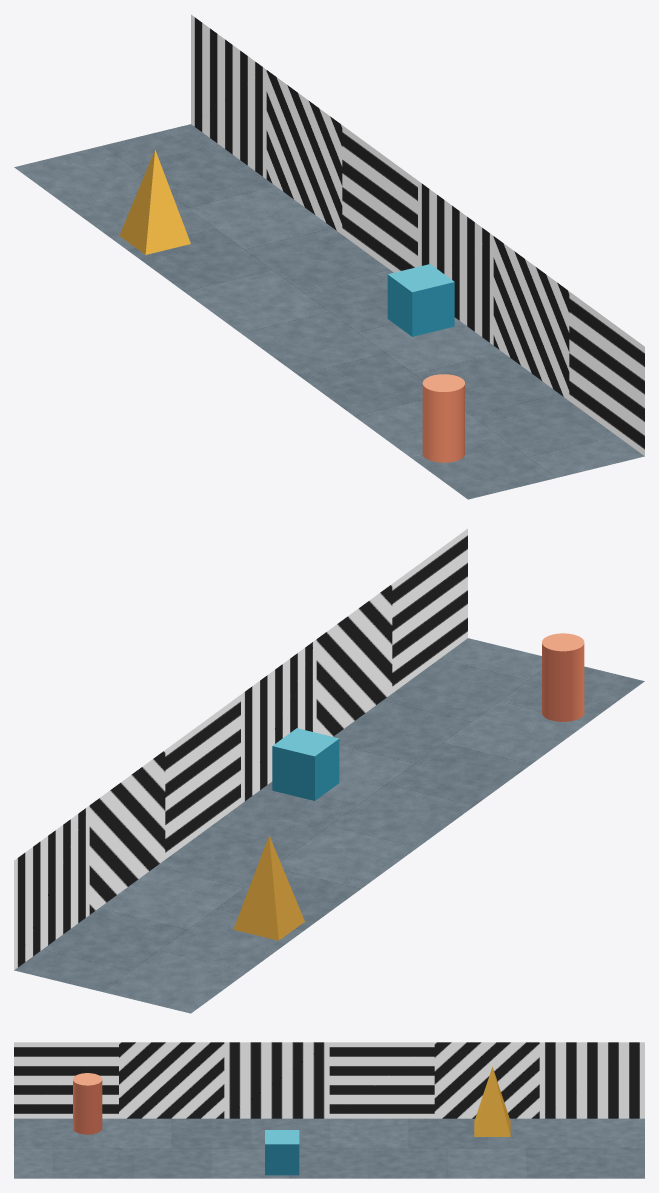
File: linear_track.glb
3 views of the same model, one above another, from view 1: azimuth 30°, elevation 25°; view 2: azimuth 150°, elevation 25°; view 3: azimuth 270°, elevation 25° (orthographic). The views are drawn at different scales.
Parts seen in each view (by area): view 1: Floor, WallRight02Oblique, WallRight05Oblique, WallRight01Horizontal, WallRight06Vertical, WallRight04Horizontal, WallRight03Vertical, LandmarkCube, LandmarkPyramid, LandmarkCylinder; view 2: Floor, WallRight05Oblique, WallRight01Horizontal, WallRight06Vertical, WallRight04Horizontal, WallRight02Oblique, WallRight03Vertical, LandmarkCube, LandmarkPyramid, LandmarkCylinder; view 3: Floor, WallLeft02Oblique, WallLeft03Vertical, WallLeft04Horizontal, WallLeft06Vertical, WallLeft05Oblique, WallLeft01Horizontal, LandmarkCylinder, LandmarkCube, LandmarkPyramid.
Part boxes in pixels (x1,y1,x2,y2): Floor: (14, 124, 644, 499); WallRight02Oblique: (493, 236, 569, 400); WallRight05Oblique: (266, 70, 342, 234); WallRight01Horizontal: (569, 291, 644, 455); WallRight06Vertical: (191, 14, 266, 178); WallRight04Horizontal: (342, 125, 417, 272); WallRight03Vertical: (418, 181, 493, 345); LandmarkCube: (387, 264, 454, 336); LandmarkPyramid: (119, 149, 190, 254); LandmarkCylinder: (422, 374, 464, 462); Floor: (14, 638, 644, 1013); WallRight05Oblique: (89, 750, 165, 914); WallRight01Horizontal: (392, 528, 467, 692); WallRight06Vertical: (14, 805, 89, 969); WallRight04Horizontal: (165, 695, 240, 859); WallRight02Oblique: (316, 584, 392, 736); WallRight03Vertical: (241, 639, 316, 803); LandmarkCube: (272, 728, 339, 800); LandmarkPyramid: (233, 835, 304, 940); LandmarkCylinder: (542, 633, 584, 721); Floor: (14, 1118, 644, 1178); WallLeft02Oblique: (119, 1042, 224, 1118); WallLeft03Vertical: (224, 1042, 329, 1118); WallLeft04Horizontal: (329, 1042, 434, 1118); WallLeft06Vertical: (539, 1042, 644, 1118); WallLeft05Oblique: (434, 1042, 539, 1118); WallLeft01Horizontal: (14, 1042, 118, 1118); LandmarkCylinder: (73, 1073, 102, 1134); LandmarkCube: (265, 1130, 299, 1175); LandmarkPyramid: (474, 1066, 510, 1136).
Size of the model in its own units: 0.27 by 0.16 by 1.2.
Materials: 7 (7 with a texture image).
